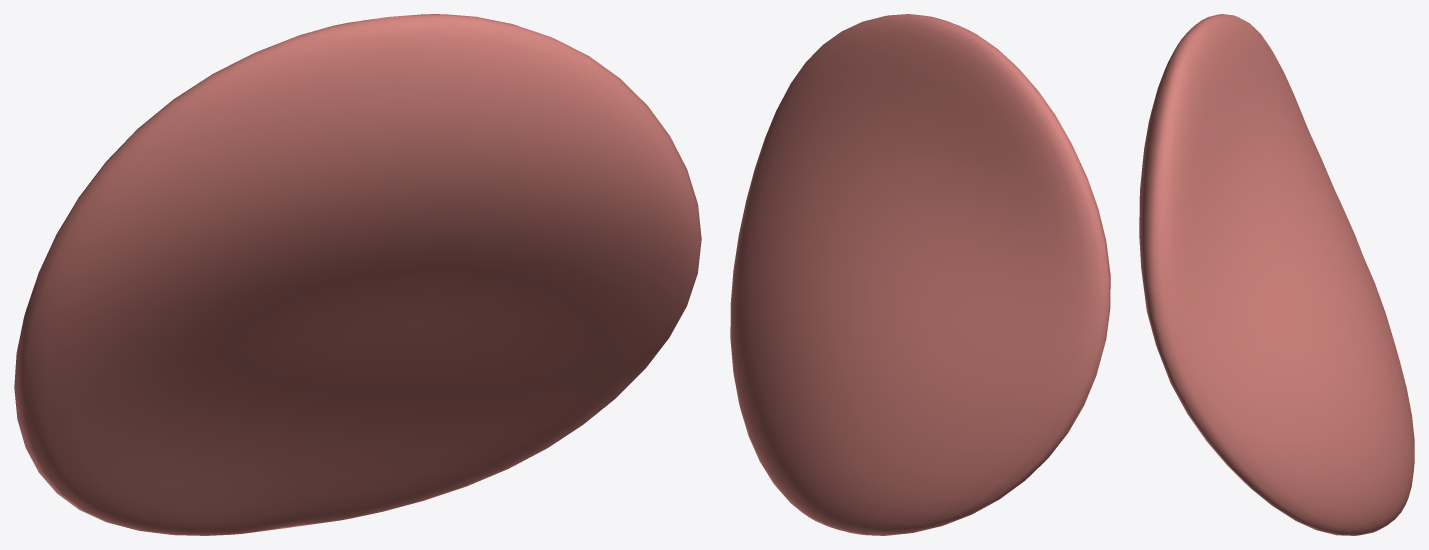
The picture shows the model from 3 angles, left to right: view 1: azimuth 30°, elevation 25°; view 2: azimuth 150°, elevation 25°; view 3: azimuth 270°, elevation 25°; orthographic projection. The views are drawn at different scales.
Parts seen in each view (by area): view 1: ZA_69bcf3323d6ef91b; view 2: ZA_69bcf3323d6ef91b; view 3: ZA_69bcf3323d6ef91b.
Part boxes in pixels (x1=…): ZA_69bcf3323d6ef91b: x1=14, y1=14, x2=701, y2=535; ZA_69bcf3323d6ef91b: x1=730, y1=14, x2=1110, y2=535; ZA_69bcf3323d6ef91b: x1=1139, y1=14, x2=1414, y2=535.
Size of the model in its own units: 0.0301 by 0.0302 by 0.0163.
